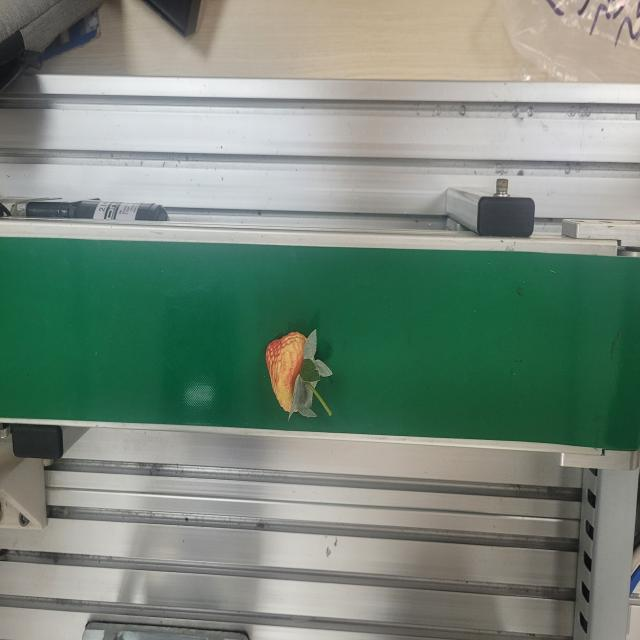Moldy Strawberry: (265, 330, 338, 425)
